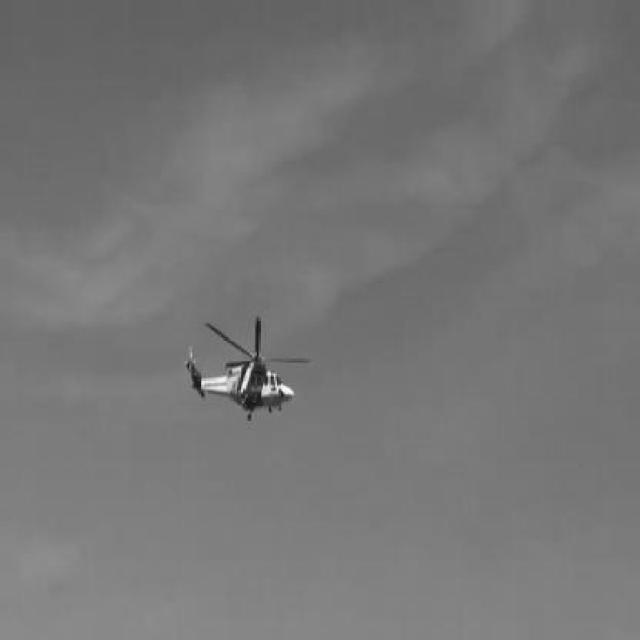helikopter: (184, 314, 310, 420)
